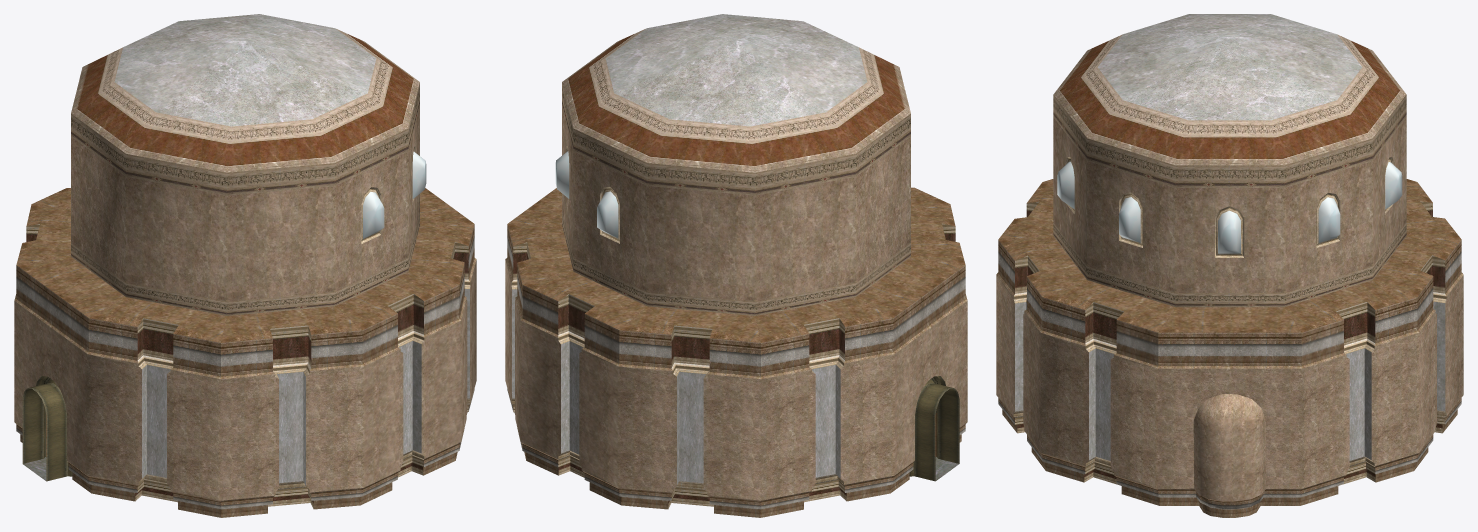
Rendered from thm_nboo_thed_theed_palace_r20_mesh_r20.fbx.
3 views of the same model, side by side, from view 1: azimuth 30°, elevation 25°; view 2: azimuth 150°, elevation 25°; view 3: azimuth 270°, elevation 25° (orthographic).
Parts seen in each view (by area): view 1: mesh_node; view 2: mesh_node; view 3: mesh_node.
Part boxes in pixels (left/top/right/bottom): mesh_node: left=14, top=14, right=476, bottom=517; mesh_node: left=505, top=14, right=967, bottom=517; mesh_node: left=996, top=14, right=1463, bottom=517.
Size of the model in its own units: 25.53 by 21.51 by 24.23.
